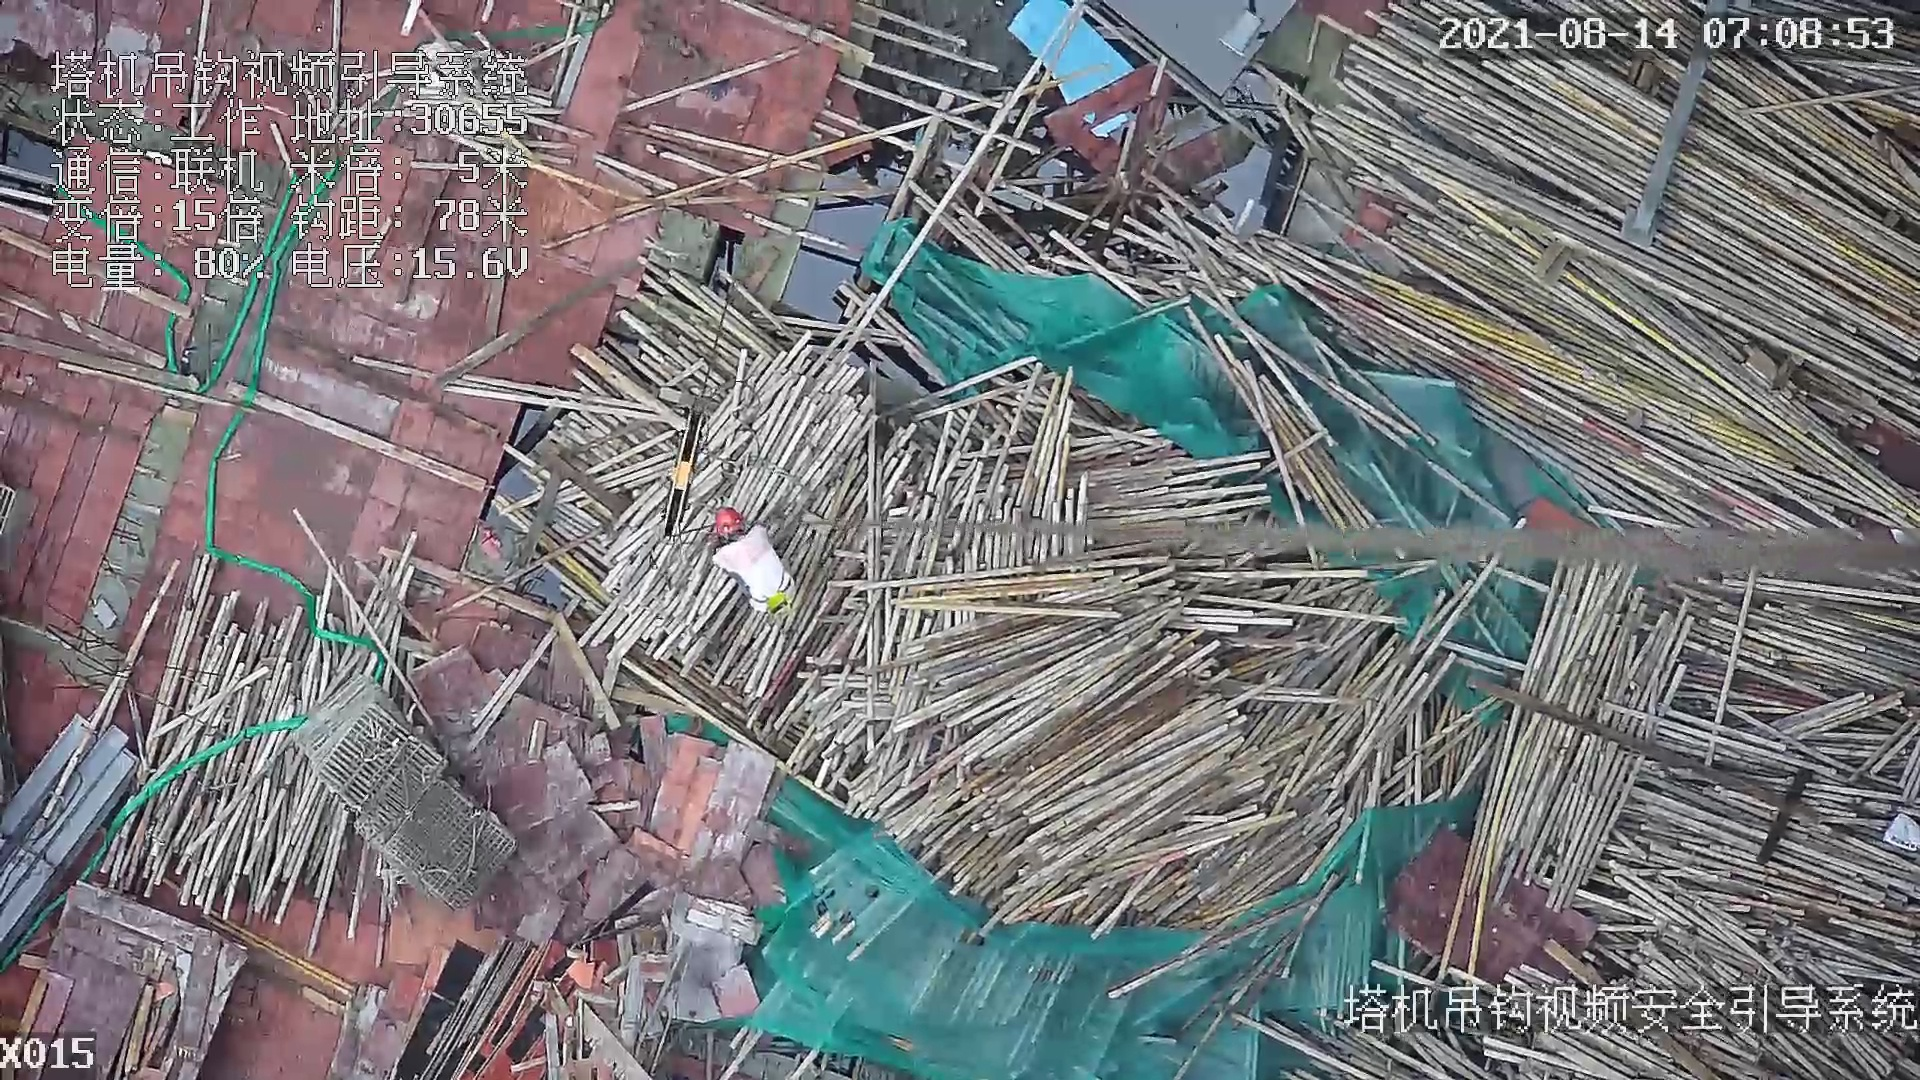helmet: (712, 508, 745, 541)
hook: (663, 397, 714, 553)
person: (708, 506, 794, 613)
